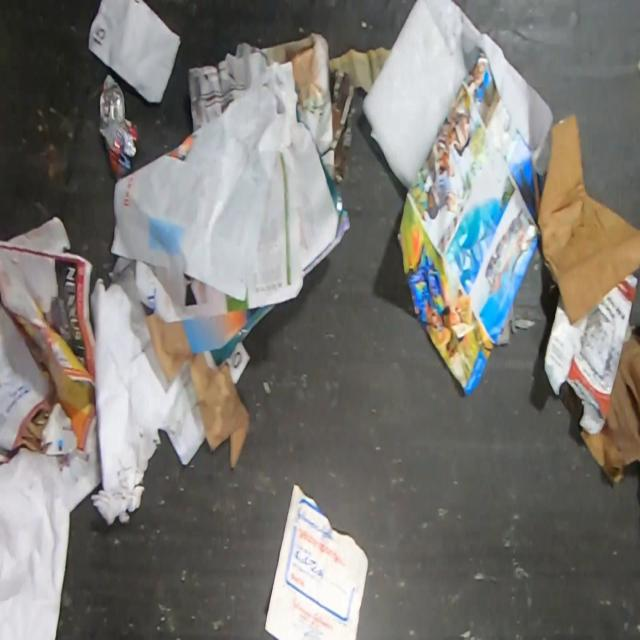cardboard: (535, 112, 639, 326), (544, 271, 640, 435), (580, 322, 640, 487)
metal: (98, 72, 138, 182)
